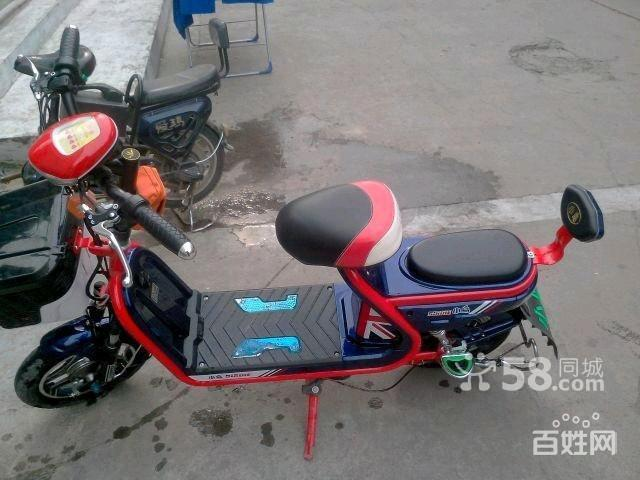电动车: (1, 22, 615, 463)
